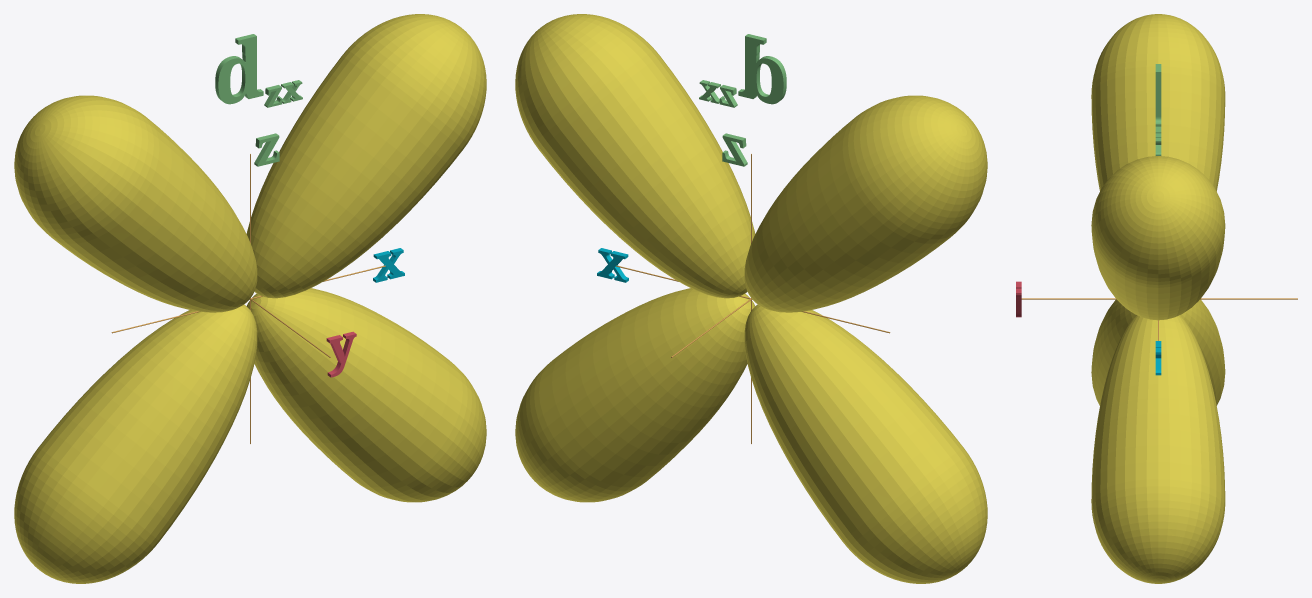
The model's file is dzx.glb.
3 renders of one model, left to right at view 1: azimuth 30°, elevation 25°; view 2: azimuth 150°, elevation 25°; view 3: azimuth 270°, elevation 25°, orthographic. The views are drawn at different scales.
Visible parts, largest first — view 1: Mesh_Mesh_head_geo.001_lambert2SG.001; view 2: Mesh_Mesh_head_geo.001_lambert2SG.001; view 3: Mesh_Mesh_head_geo.001_lambert2SG.001.
Boxes of the visible parts, x1,y1,x2,y2 form: Mesh_Mesh_head_geo.001_lambert2SG.001: (14,14,486,583); Mesh_Mesh_head_geo.001_lambert2SG.001: (515,14,987,583); Mesh_Mesh_head_geo.001_lambert2SG.001: (1016,14,1297,583).
Size of the model in its own units: 81.96 by 86.32 by 50.5.
